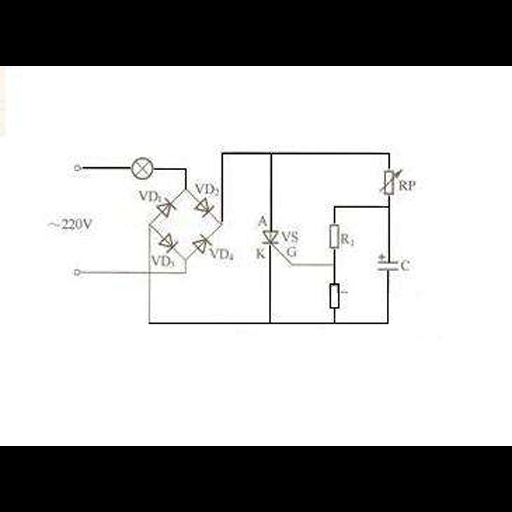firstpolarcapacitor: (373, 251, 400, 276)
firstresistance: (325, 281, 341, 310), (325, 222, 340, 252)
light: (129, 155, 155, 181)
rectifierbridge: (147, 188, 222, 259)
